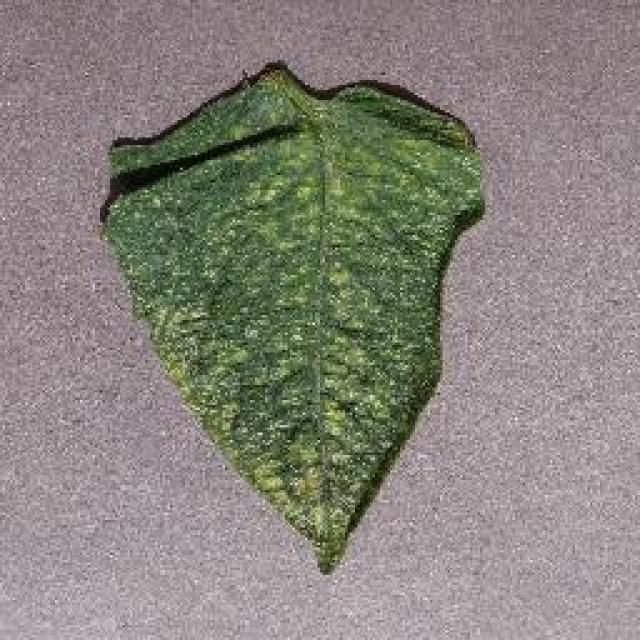Tomato___Spider_mites Two-spotted_spider_mite: (102, 62, 482, 570)
